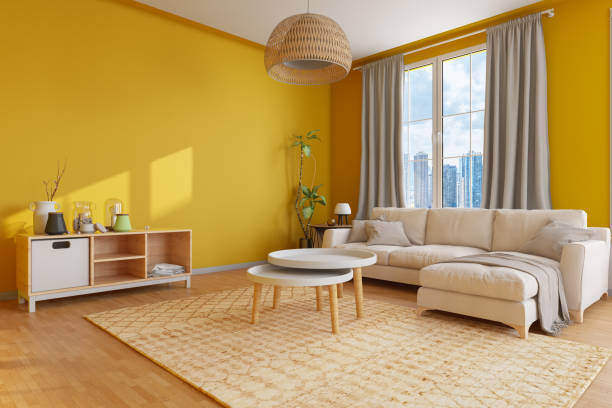large plant: (287, 127, 324, 246)
sofa: (320, 206, 612, 340)
table: (245, 244, 377, 335)
table lamp: (331, 203, 354, 224)
